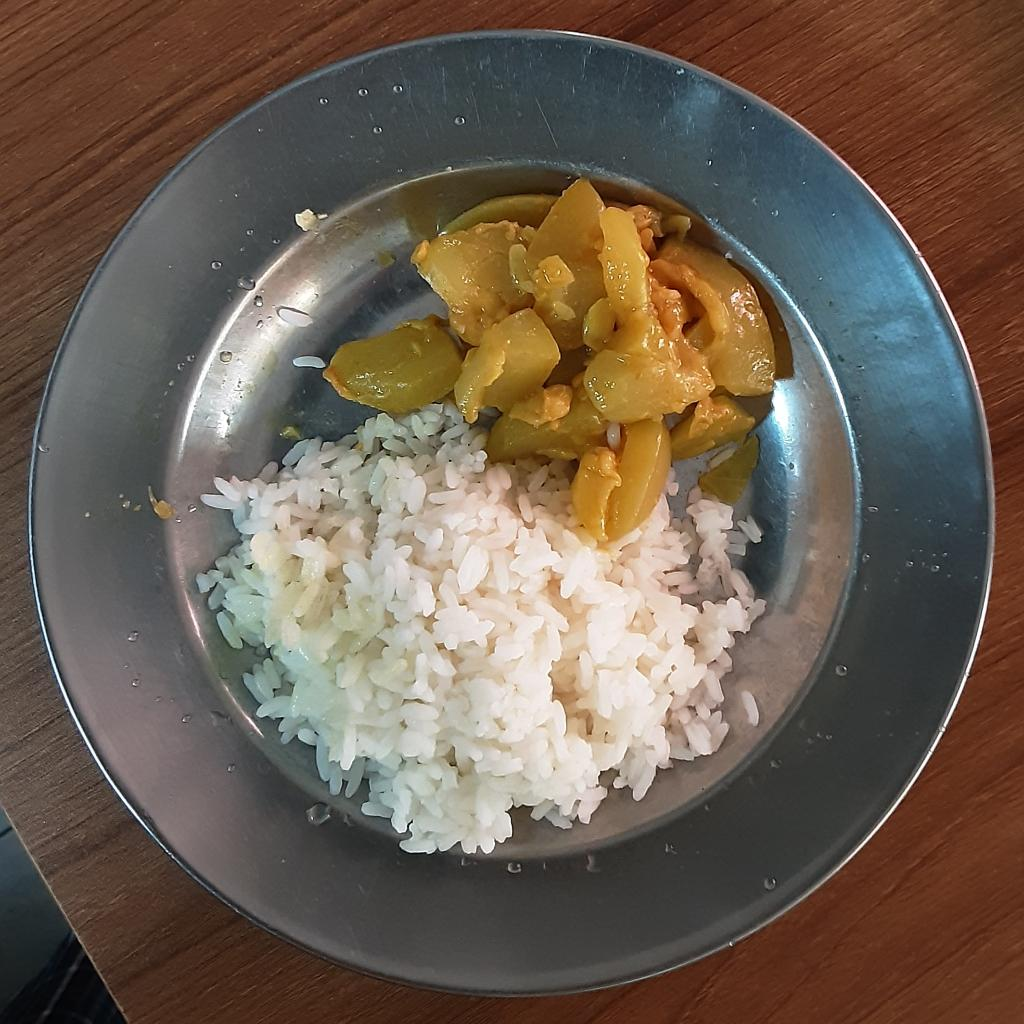kumra-vaji: (332, 173, 778, 534)
rice: (194, 402, 768, 858)
